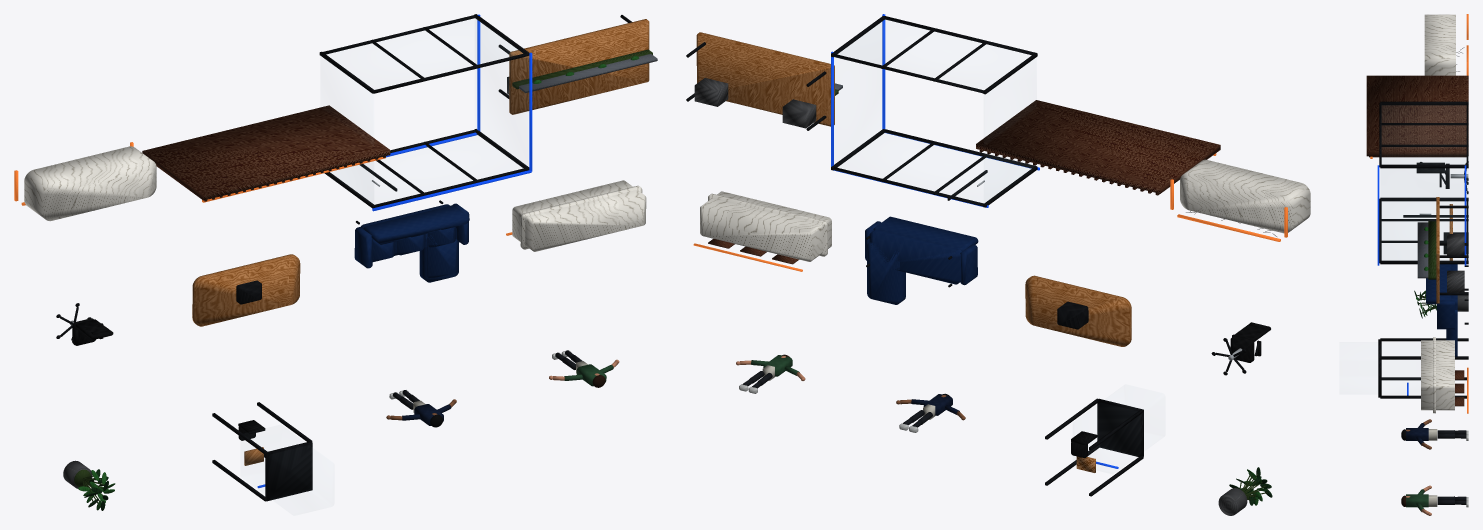
The model's file is SCENE_ASSET_GALLERY_HERO_V3_001.glb.
3 views of the same model, side by side, from view 1: azimuth 30°, elevation 25°; view 2: azimuth 150°, elevation 25°; view 3: azimuth 270°, elevation 25° (orthographic). The views are drawn at different scales.
Visible parts, largest first — view 1: RECEPTION_BACKWALL_WOOD_SLAT_HERO_001_base_wall_023, DESK_BENCH_4P_HERO_001_bench_top_hero_072, RECEPTION_DESK_MARBLE_HERO_001_curved_marble_body_000, PANTRY_COUNTER_MARBLE_HERO_001_counter_body_122, MEETING_TABLE_8P_HERO_001_meeting_table_top_103, PHONEBOOTH_1P_GLASS_001_roof_179, SOFA_SECTIONAL_BLUE_HERO_001_sofa_back_107, DESK_BENCH_4P_HERO_001_center_privacy_panel_073, SOFA_SECTIONAL_BLUE_HERO_001_chaise_cushion_121, PANTRY_COUNTER_MARBLE_HERO_001_counter_top_123, DESK_BENCH_4P_HERO_001_planter_divider_box_074; view 2: RECEPTION_BACKWALL_WOOD_SLAT_HERO_001_base_wall_023, DESK_BENCH_4P_HERO_001_bench_top_hero_072, RECEPTION_DESK_MARBLE_HERO_001_curved_marble_body_000, PANTRY_COUNTER_MARBLE_HERO_001_counter_body_122, MEETING_TABLE_8P_HERO_001_meeting_table_top_103, SOFA_SECTIONAL_BLUE_HERO_001_sofa_base_106, PHONEBOOTH_1P_GLASS_001_roof_179, SOFA_SECTIONAL_BLUE_HERO_001_chaise_base_120, SOFA_SECTIONAL_BLUE_HERO_001_sofa_back_107, DESK_BENCH_4P_HERO_001_cabinet_083, DESK_BENCH_4P_HERO_001_cabinet_084, MEETING_TABLE_8P_HERO_001_pedestal_104 (+1 smaller); view 3: RECEPTION_BACKWALL_WOOD_SLAT_HERO_001_base_wall_023, PANTRY_COUNTER_MARBLE_HERO_001_counter_body_122, RECEPTION_DESK_MARBLE_HERO_001_curved_marble_body_000, DESK_BENCH_4P_HERO_001_center_privacy_panel_073, SOFA_SECTIONAL_BLUE_HERO_001_sofa_back_107, SOFA_SECTIONAL_BLUE_HERO_001_sofa_arm_109, DESK_BENCH_4P_HERO_001_planter_divider_box_074, ARCH_GLASS_MEETING_ROOM_HERO_001_corner_frame_055, ARCH_GLASS_MEETING_ROOM_HERO_001_corner_frame_052, DESK_BENCH_4P_HERO_001_bench_top_hero_072, ARCH_GLASS_MEETING_ROOM_HERO_001_corner_frame_051, DESK_BENCH_4P_HERO_001_cabinet_084 (+23 smaller).
Part boxes in pixels (bbox=[...]): RECEPTION_BACKWALL_WOOD_SLAT_HERO_001_base_wall_023: bbox=[142, 105, 390, 200]; DESK_BENCH_4P_HERO_001_bench_top_hero_072: bbox=[509, 19, 649, 114]; RECEPTION_DESK_MARBLE_HERO_001_curved_marble_body_000: bbox=[24, 146, 156, 221]; PANTRY_COUNTER_MARBLE_HERO_001_counter_body_122: bbox=[512, 180, 646, 251]; MEETING_TABLE_8P_HERO_001_meeting_table_top_103: bbox=[192, 254, 300, 326]; PHONEBOOTH_1P_GLASS_001_roof_179: bbox=[265, 441, 312, 501]; SOFA_SECTIONAL_BLUE_HERO_001_sofa_back_107: bbox=[363, 205, 469, 243]; DESK_BENCH_4P_HERO_001_center_privacy_panel_073: bbox=[519, 54, 657, 93]; SOFA_SECTIONAL_BLUE_HERO_001_chaise_cushion_121: bbox=[427, 228, 458, 278]; PANTRY_COUNTER_MARBLE_HERO_001_counter_top_123: bbox=[520, 185, 642, 249]; DESK_BENCH_4P_HERO_001_planter_divider_box_074: bbox=[512, 49, 652, 89]; RECEPTION_BACKWALL_WOOD_SLAT_HERO_001_base_wall_023: bbox=[976, 100, 1220, 193]; DESK_BENCH_4P_HERO_001_bench_top_hero_072: bbox=[696, 32, 834, 126]; RECEPTION_DESK_MARBLE_HERO_001_curved_marble_body_000: bbox=[1180, 159, 1310, 233]; PANTRY_COUNTER_MARBLE_HERO_001_counter_body_122: bbox=[700, 191, 831, 261]; MEETING_TABLE_8P_HERO_001_meeting_table_top_103: bbox=[1025, 275, 1131, 346]; SOFA_SECTIONAL_BLUE_HERO_001_sofa_base_106: bbox=[869, 229, 961, 284]; PHONEBOOTH_1P_GLASS_001_roof_179: bbox=[1097, 398, 1143, 456]; SOFA_SECTIONAL_BLUE_HERO_001_chaise_base_120: bbox=[867, 242, 905, 304]; SOFA_SECTIONAL_BLUE_HERO_001_sofa_back_107: bbox=[873, 216, 978, 251]; DESK_BENCH_4P_HERO_001_cabinet_083: bbox=[782, 99, 816, 128]; DESK_BENCH_4P_HERO_001_cabinet_084: bbox=[694, 78, 728, 106]; MEETING_TABLE_8P_HERO_001_pedestal_104: bbox=[1057, 301, 1088, 329]; RECEPTION_BACKWALL_WOOD_SLAT_HERO_001_base_wall_023: bbox=[1366, 75, 1468, 156]; PANTRY_COUNTER_MARBLE_HERO_001_counter_body_122: bbox=[1421, 340, 1454, 410]; RECEPTION_DESK_MARBLE_HERO_001_curved_marble_body_000: bbox=[1424, 14, 1455, 75]; DESK_BENCH_4P_HERO_001_center_privacy_panel_073: bbox=[1417, 222, 1428, 278]; SOFA_SECTIONAL_BLUE_HERO_001_sofa_back_107: bbox=[1426, 264, 1451, 303]; SOFA_SECTIONAL_BLUE_HERO_001_sofa_arm_109: bbox=[1437, 300, 1454, 329]; DESK_BENCH_4P_HERO_001_planter_divider_box_074: bbox=[1428, 221, 1436, 279]; ARCH_GLASS_MEETING_ROOM_HERO_001_corner_frame_055: bbox=[1380, 164, 1468, 168]; ARCH_GLASS_MEETING_ROOM_HERO_001_corner_frame_052: bbox=[1380, 101, 1468, 105]; DESK_BENCH_4P_HERO_001_bench_top_hero_072: bbox=[1436, 197, 1439, 303]; ARCH_GLASS_MEETING_ROOM_HERO_001_corner_frame_051: bbox=[1380, 197, 1468, 201]; DESK_BENCH_4P_HERO_001_cabinet_084: bbox=[1447, 270, 1464, 292].
Size of the model in its own units: 12.88 by 7.71 by 2.81.
30 materials, 30 textured.
